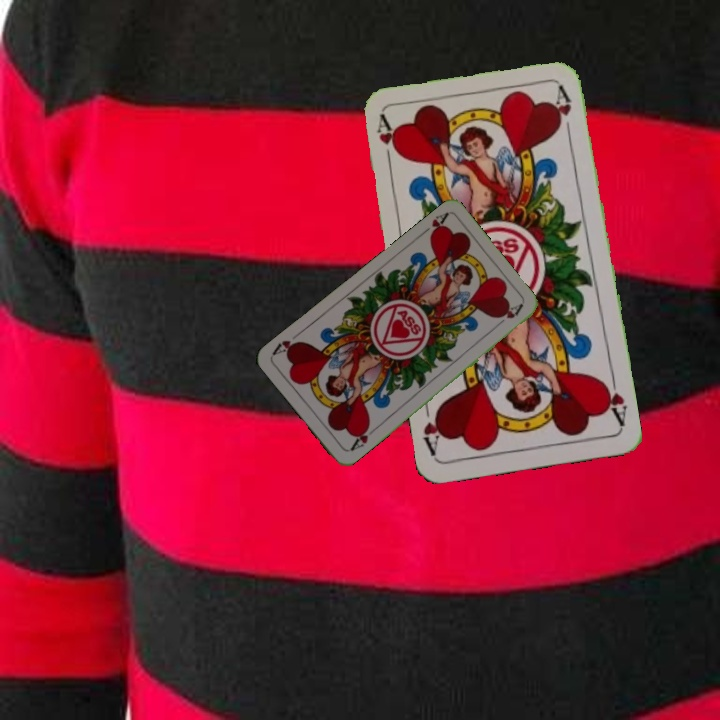HA: (598, 370, 630, 429), (373, 113, 401, 172), (346, 420, 379, 454), (415, 209, 450, 241)
